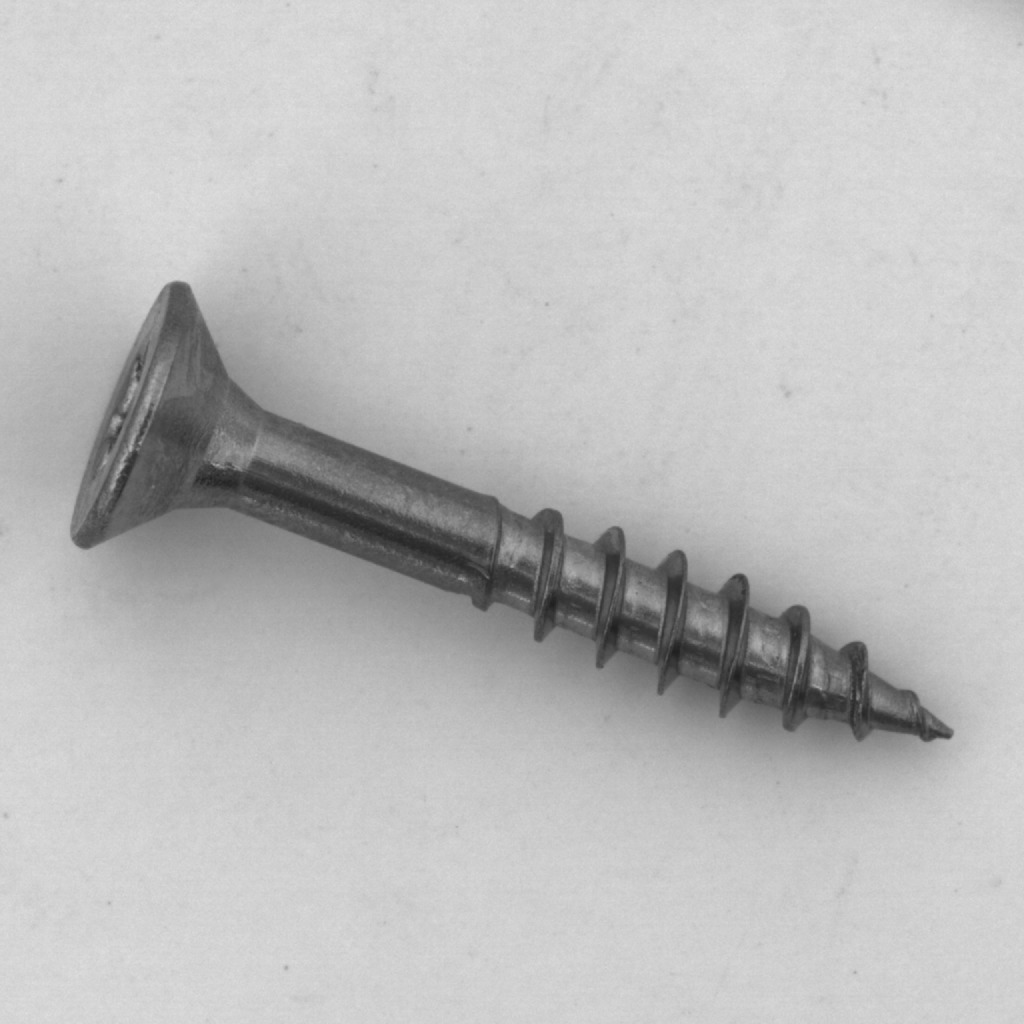good: (54, 264, 956, 764)
